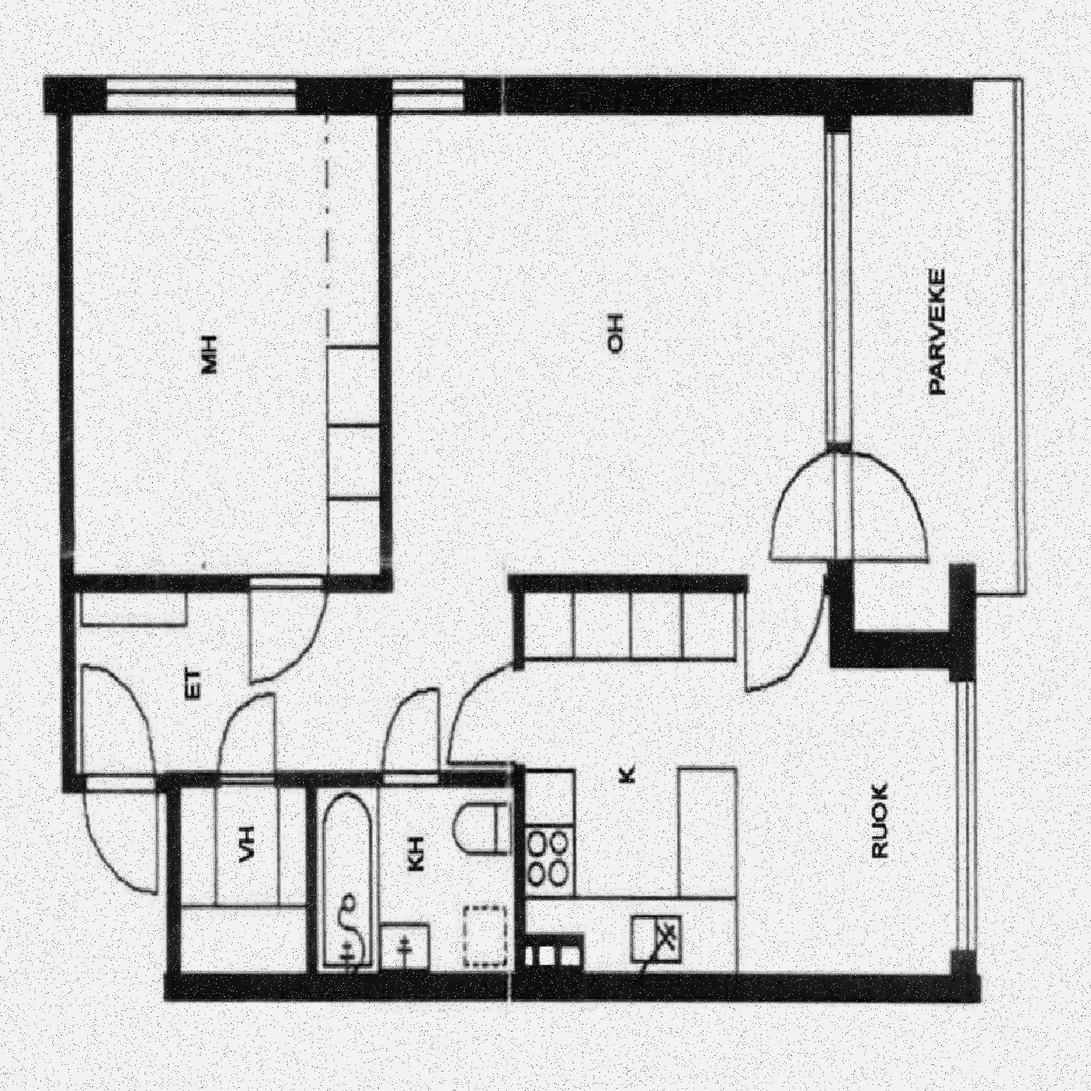wall: (60, 77, 855, 114), (166, 972, 974, 1003), (829, 77, 855, 667), (60, 77, 74, 791), (948, 629, 974, 1002), (180, 771, 526, 789), (380, 77, 392, 591), (60, 574, 392, 591), (526, 574, 855, 591), (829, 631, 975, 667), (855, 77, 975, 113), (165, 770, 179, 1002), (513, 770, 525, 1002), (305, 770, 317, 1002), (514, 574, 526, 789), (59, 770, 179, 790), (949, 562, 975, 631), (508, 574, 526, 591)
